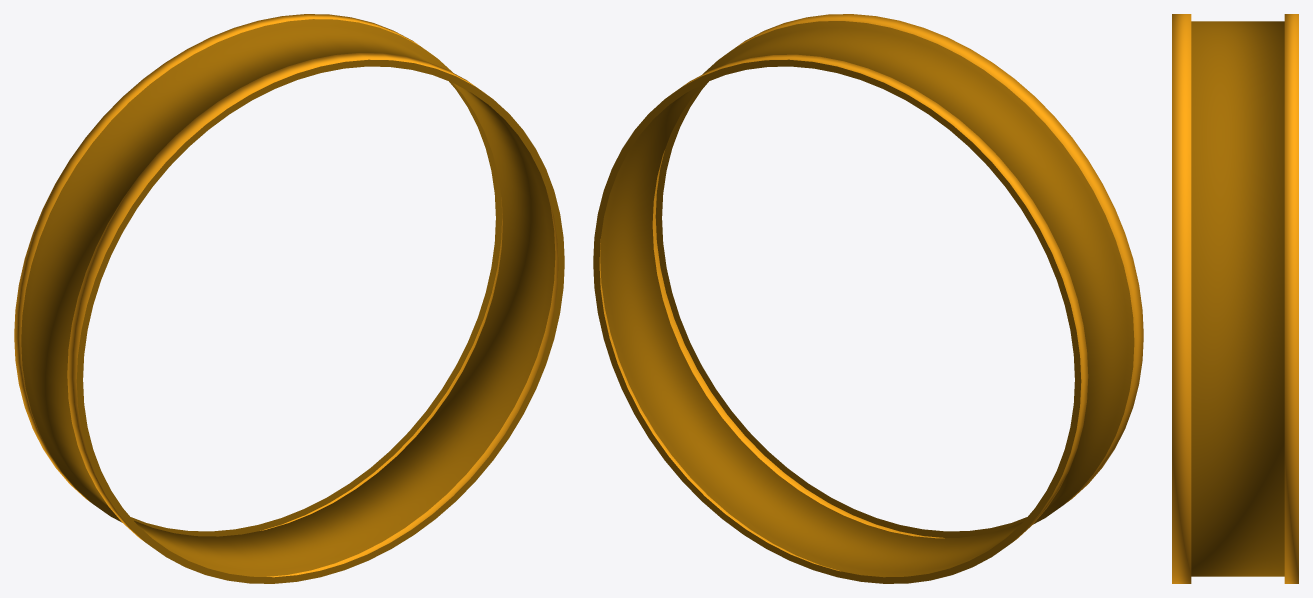
The model's file is gelang_2.glb.
3 views of the same model, side by side, from view 1: azimuth 30°, elevation 25°; view 2: azimuth 150°, elevation 25°; view 3: azimuth 270°, elevation 25° (orthographic).
Parts seen in each view (by area): view 1: Cylinder; view 2: Cylinder; view 3: Cylinder.
Part boxes in pixels (box(x1,y1,x2,y2)): Cylinder: box(14, 14, 564, 583); Cylinder: box(593, 14, 1143, 583); Cylinder: box(1172, 14, 1298, 583).
Bounding box in the file's own units: 4.45 × 4.45 × 0.9873.
